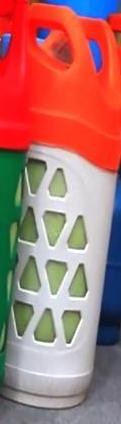cylinder: (1, 0, 121, 424)
